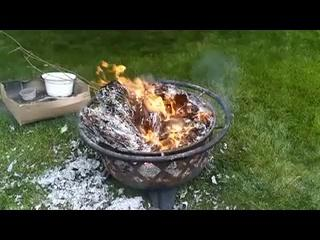Fire: (112, 68, 175, 120)
